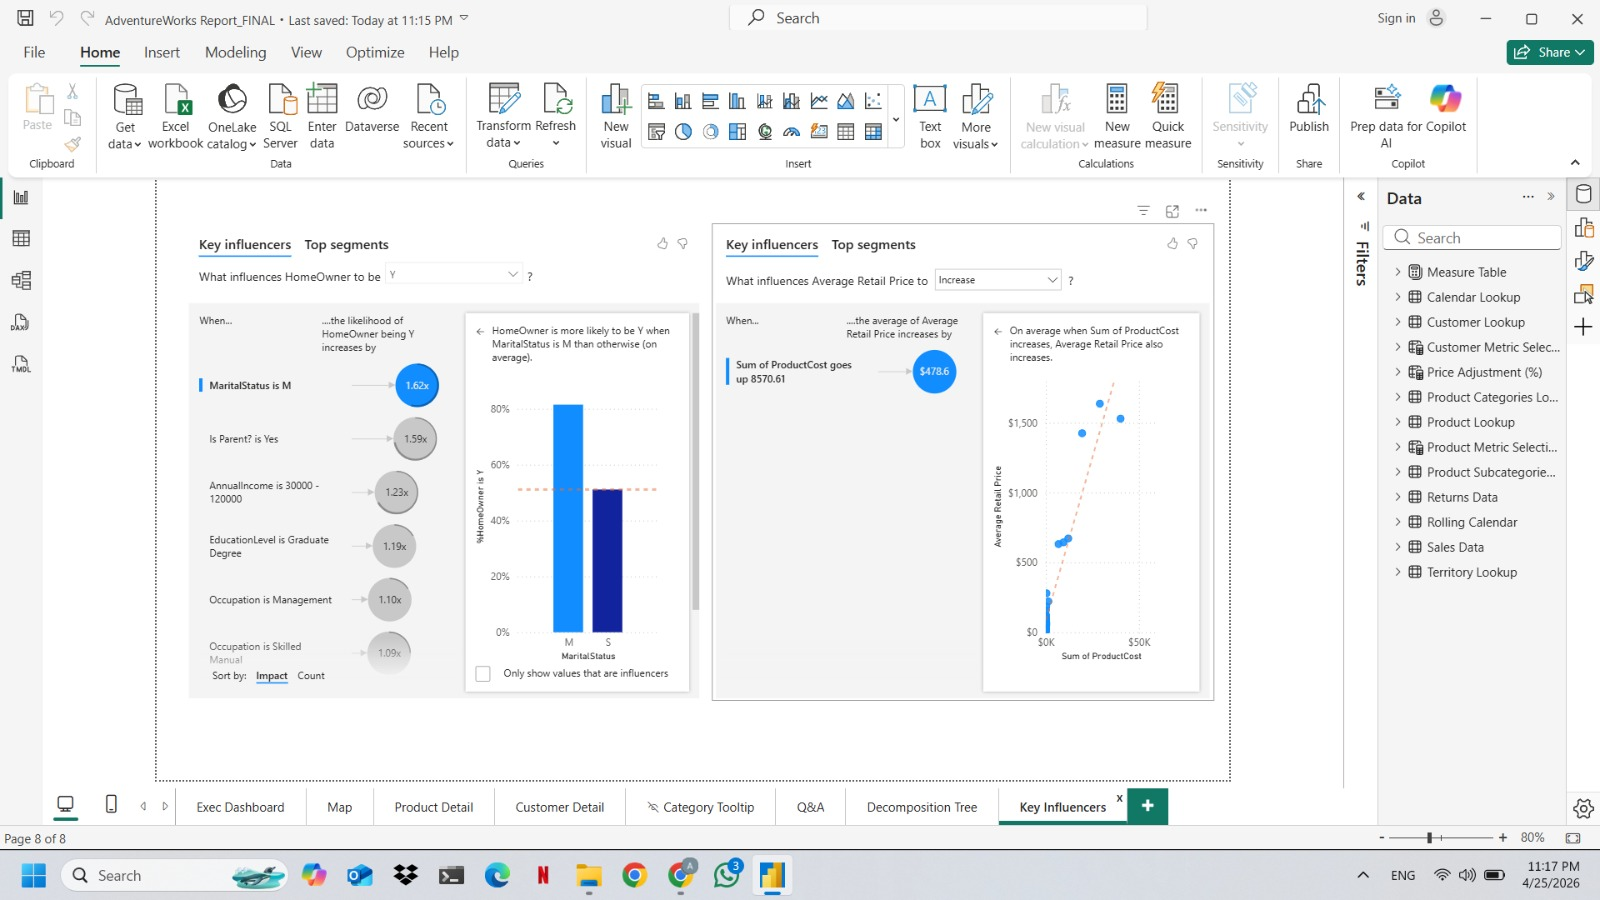

The page's visual inventory and layout, read from the dashboard file:
{"tool":"powerbi","page":{"name":"Key Influencers","canvas":[1280,720],"ordinal":7},"visuals":[{"type":"keyDriversVisual","fields":{"Target":["Customer Lookup.HomeOwner"],"ExplainBy":["Customer Lookup.AnnualIncome","Customer Lookup.EducationLevel","Customer Lookup.Is Parent?","Customer Lookup.MaritalStatus","Customer Lookup.Occupation"]},"box":[33.9,54.3,619.4,571.9],"z":0},{"type":"keyDriversVisual","fields":{"ExplainBy":["Sum(Product Lookup.ProductCost)"],"Details":["Product Subcategories Lookup.SubcategoryName"],"Target":["Measure Table.Average Retail Price"]},"box":[663.5,54.3,599.1,571.9],"z":1000}]}

Visuals, with their boxes on the page's 1280x720 design canvas (x1, y1, x2, y2). These are canvas units, not pixel positions in the 1600x900 screenshot, which may show the page scaled, cropped or inside an application window:
keyDriversVisual - Customer Lookup.HomeOwner x Customer Lookup.AnnualIncome: 34 54 653 626
keyDriversVisual - Sum(Product Lookup.ProductCost) x Product Subcategories Lookup.SubcategoryName: 664 54 1263 626
